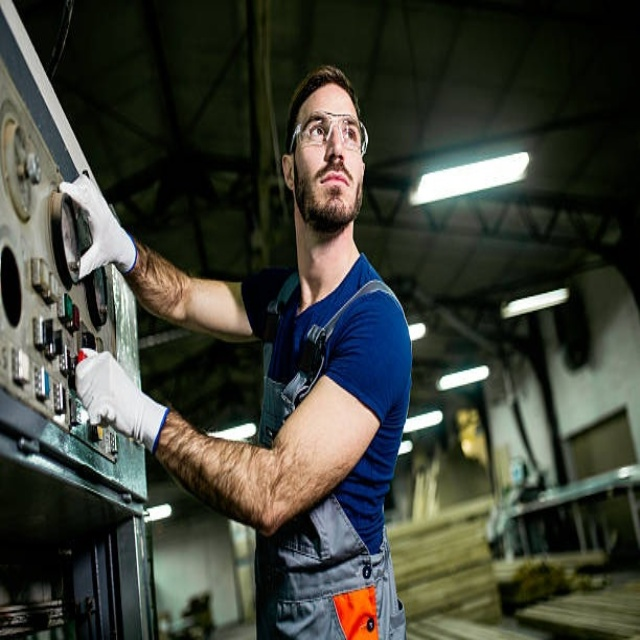Gafas: (290, 112, 370, 156)
Guantes: (75, 346, 170, 454), (58, 171, 138, 279)
Sin_mascara: (312, 162, 353, 210)
